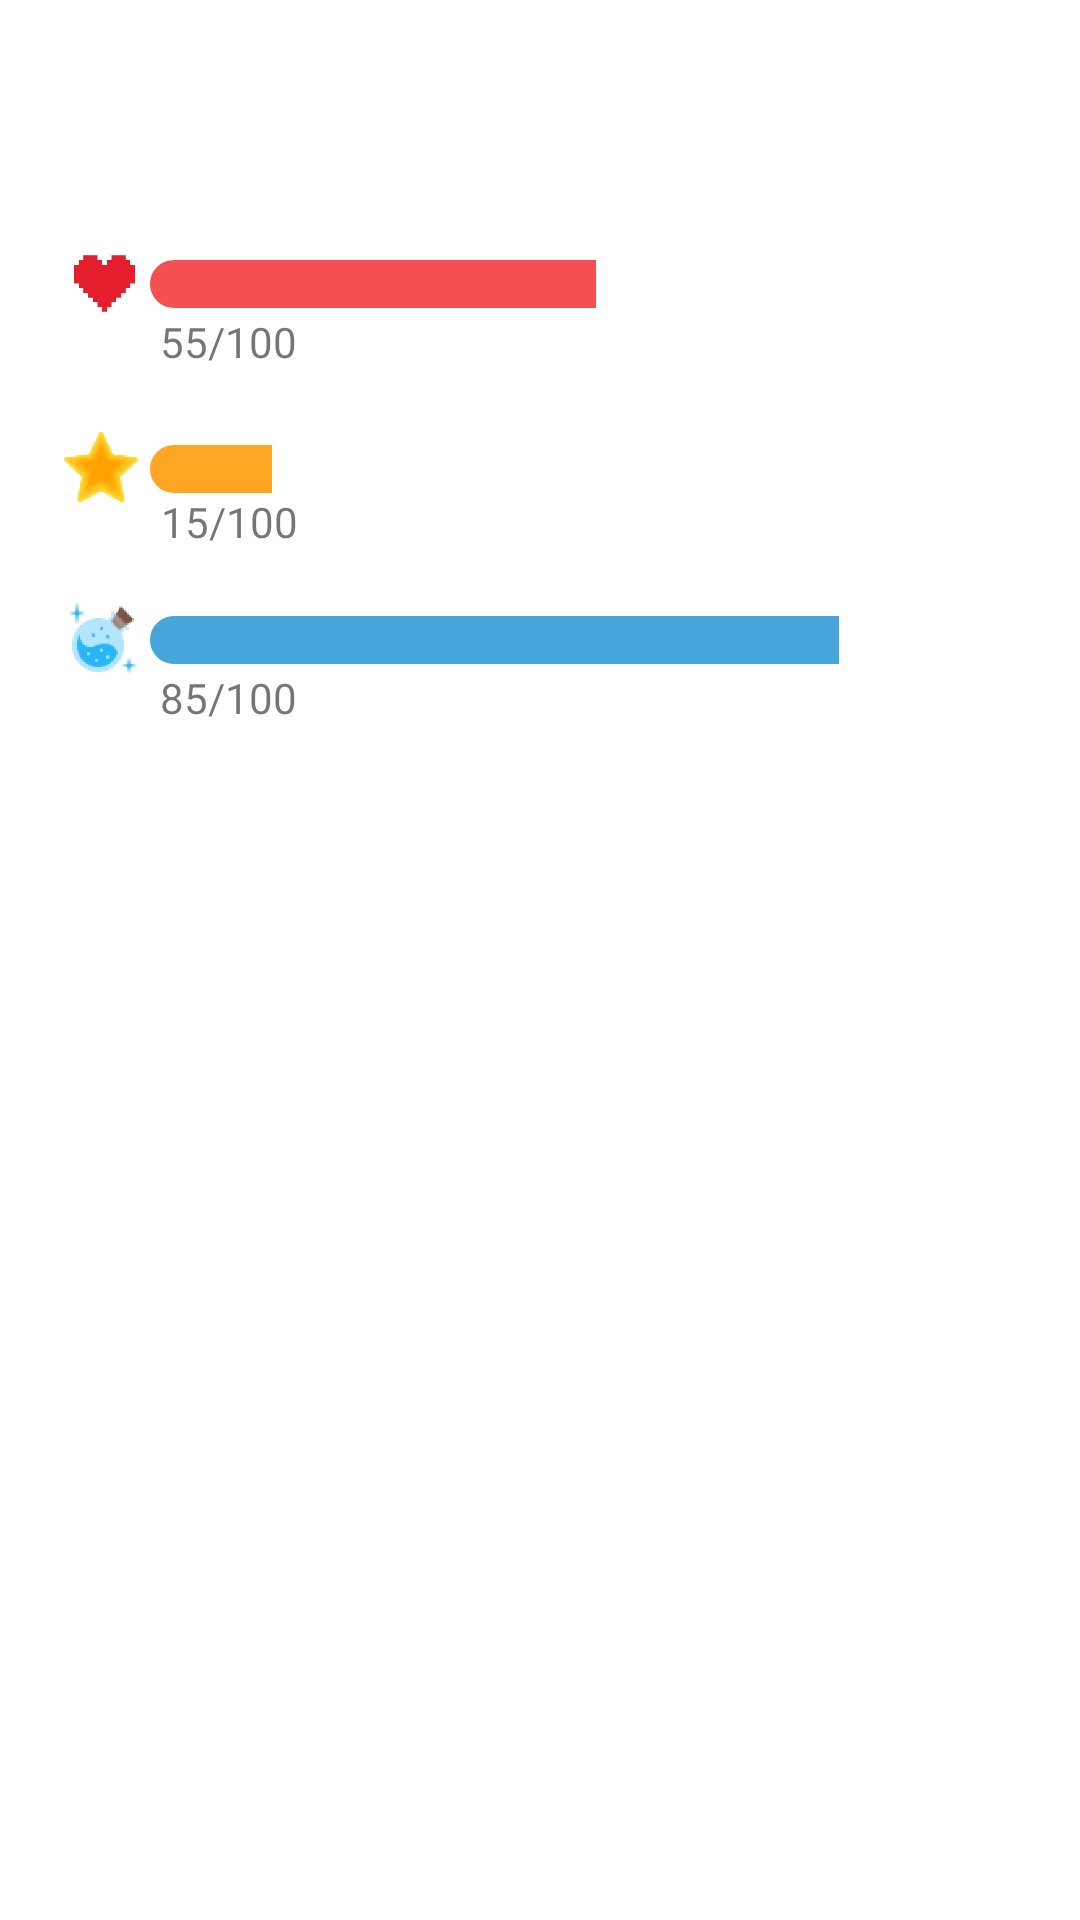

Screen size 1080px x 1920px. Icon name, then its box in pixels as (x1, y1, x2, y2):
experience: (64, 432, 138, 502)
heart: (74, 255, 135, 312)
mana: (70, 603, 137, 672)
